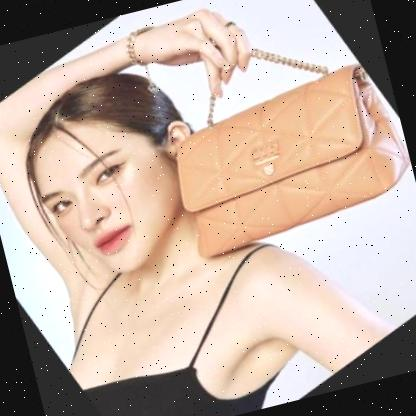bag: (155, 50, 416, 265)
person: (0, 0, 388, 416)
